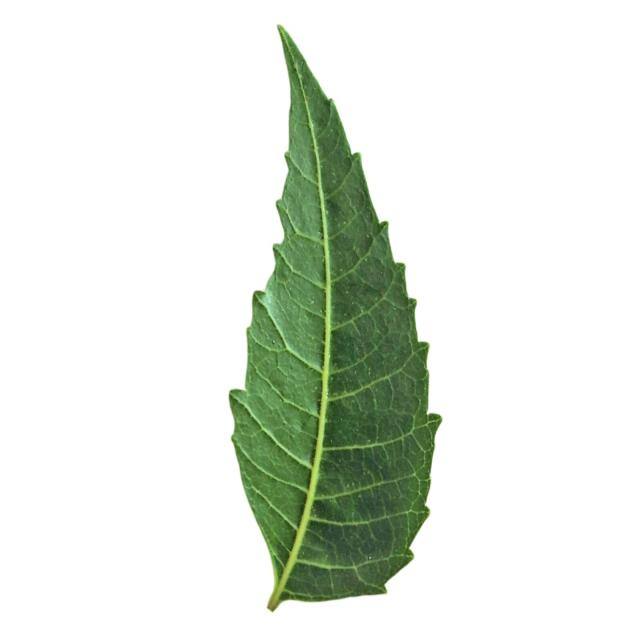Medicinal-Neem: (230, 26, 441, 612)
